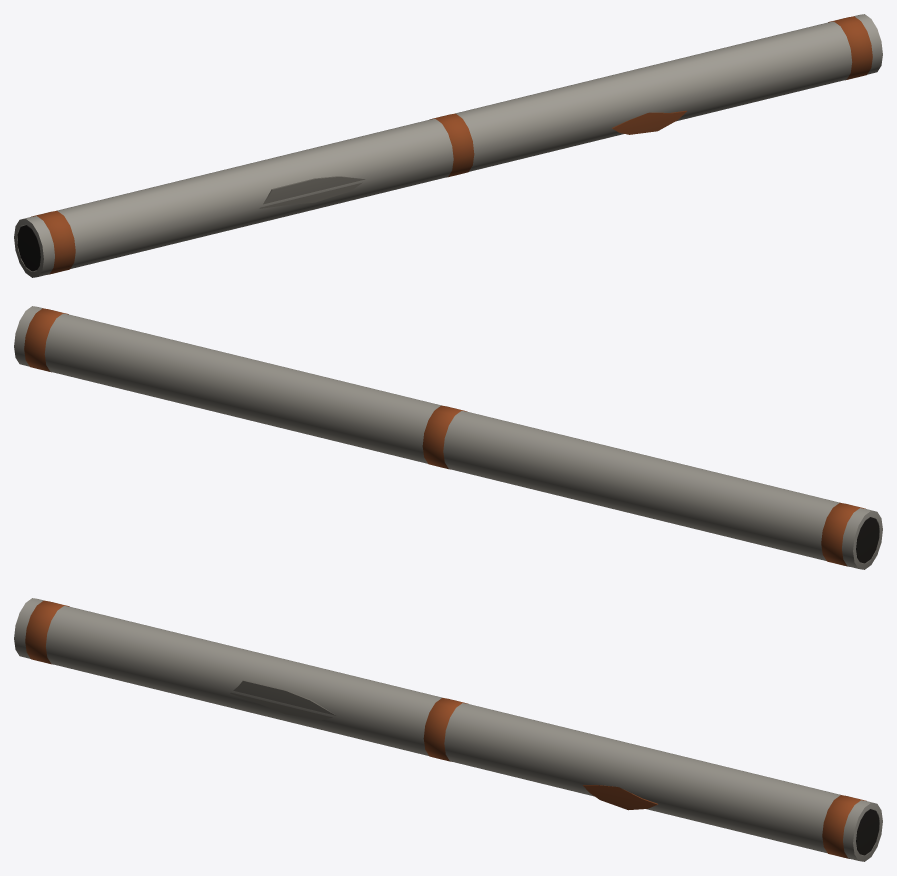
Rendered from 42_gros_tuyau.fbx.
The picture shows the model from 3 angles, top to bottom: view 1: azimuth 30°, elevation 25°; view 2: azimuth 150°, elevation 25°; view 3: azimuth 330°, elevation 25°; orthographic projection.
Parts seen in each view (by area): view 1: Tuyau; view 2: Tuyau; view 3: Tuyau.
Boxes of the visible parts, left/top/right/bottom form: Tuyau: left=14, top=14, right=882, bottom=277; Tuyau: left=14, top=306, right=882, bottom=569; Tuyau: left=14, top=598, right=882, bottom=861.
Size of the model in its own units: 4.48 by 0.28 by 0.28.
1 material, 1 textured.
